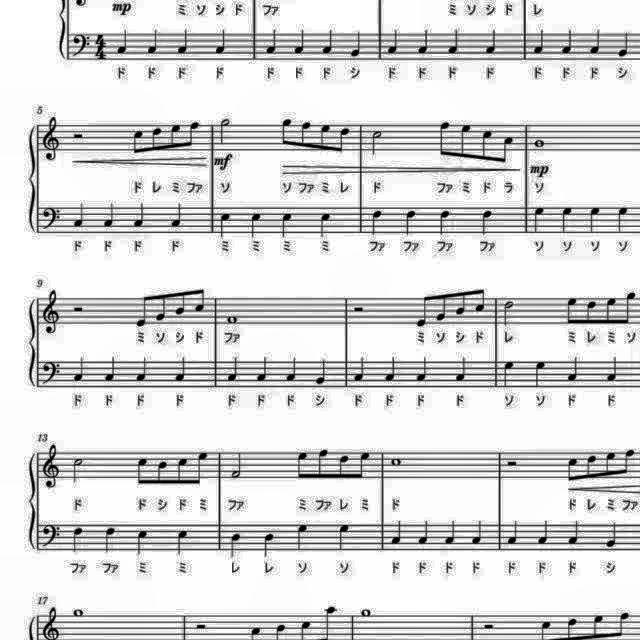Bass-clef: (69, 29, 93, 59), (40, 358, 64, 387), (40, 204, 64, 232), (40, 520, 62, 550)
Eighth-note: (132, 290, 152, 328), (412, 290, 432, 328), (456, 120, 474, 162), (478, 125, 496, 163), (622, 289, 640, 327), (133, 452, 151, 488), (614, 608, 634, 640), (193, 448, 209, 488), (293, 446, 311, 480), (316, 444, 332, 480), (622, 444, 638, 478), (174, 453, 190, 487), (299, 118, 315, 152), (316, 121, 332, 155), (451, 284, 467, 318), (155, 290, 171, 324), (436, 291, 452, 325), (602, 294, 618, 328), (183, 118, 200, 150), (130, 126, 146, 160), (499, 134, 516, 166), (278, 115, 294, 149), (356, 446, 372, 479), (584, 296, 600, 328), (168, 121, 184, 153), (337, 124, 353, 156), (601, 448, 617, 480), (190, 284, 206, 316), (172, 286, 188, 318), (564, 294, 580, 326), (584, 451, 600, 482), (156, 457, 172, 488), (148, 124, 164, 154), (337, 452, 353, 482), (564, 453, 580, 483), (472, 282, 486, 314)
Full-note: (224, 312, 240, 328), (70, 604, 86, 620), (388, 455, 404, 469), (357, 605, 373, 619), (530, 138, 546, 150)
Half-note: (434, 117, 452, 159), (68, 456, 88, 488), (366, 126, 384, 158), (216, 114, 234, 146), (230, 448, 247, 480), (499, 296, 516, 328)
Half-rest: (192, 618, 208, 634), (482, 618, 498, 634), (506, 456, 522, 470), (70, 302, 86, 316), (70, 129, 86, 143), (350, 304, 366, 316)
Quarter-note: (320, 603, 340, 640), (292, 520, 310, 554), (213, 24, 231, 56), (443, 24, 461, 56), (101, 523, 119, 555), (369, 206, 387, 238), (134, 526, 152, 558), (483, 24, 501, 56), (336, 520, 354, 552), (603, 518, 621, 550), (558, 203, 576, 234), (264, 26, 282, 56), (437, 207, 455, 237), (174, 26, 192, 56), (479, 206, 497, 236), (603, 355, 621, 385), (168, 201, 186, 231), (529, 203, 547, 233), (173, 526, 191, 556), (615, 203, 633, 233), (172, 355, 190, 385), (316, 209, 334, 239), (564, 355, 582, 385), (382, 355, 400, 385), (499, 358, 516, 389), (314, 357, 331, 388), (350, 353, 368, 382), (70, 526, 86, 558), (416, 24, 432, 56), (560, 24, 576, 56), (322, 24, 338, 56), (584, 204, 600, 236), (348, 28, 364, 60), (414, 354, 431, 384), (223, 355, 240, 385), (215, 211, 232, 241), (404, 207, 421, 237), (261, 530, 279, 558), (532, 357, 548, 388), (617, 29, 633, 60), (588, 27, 604, 58), (278, 211, 294, 241), (114, 26, 130, 56), (248, 211, 264, 241), (383, 25, 399, 55), (452, 354, 468, 384), (530, 26, 546, 56), (292, 25, 308, 55), (134, 355, 150, 385), (70, 355, 86, 385), (144, 26, 160, 56), (132, 201, 148, 231), (388, 517, 404, 547), (70, 199, 86, 229), (102, 355, 118, 385), (102, 199, 118, 229), (254, 353, 270, 383), (468, 517, 484, 547), (504, 517, 520, 547), (228, 530, 245, 558), (283, 356, 299, 384), (566, 518, 582, 546), (441, 516, 457, 544), (534, 518, 550, 546), (416, 518, 432, 546)
Treble-clef: (42, 444, 66, 494), (42, 286, 66, 334), (42, 116, 66, 164)
